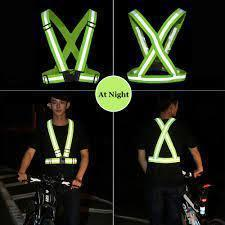Vest: (39, 117, 82, 168), (141, 117, 186, 165)
